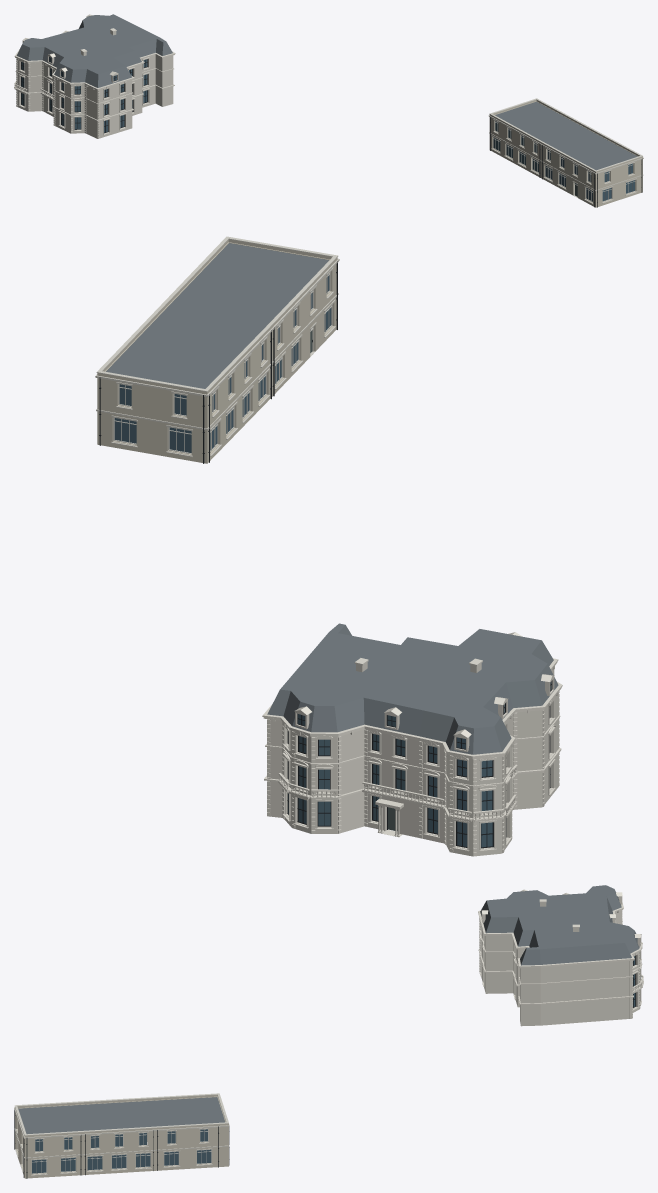
Rendered from retained_batch02.glb.
3 renders of one model, top to bottom at view 1: azimuth 30°, elevation 25°; view 2: azimuth 150°, elevation 25°; view 3: azimuth 270°, elevation 25°, orthographic. The views are drawn at different scales.
Visible parts, largest first — view 1: 25 Kensington Gore | pierced stucco envelope, 41–45 Jay Mews | pierced masonry, 25 Kensington Gore | slate upper roof, 41–45 Jay Mews | concave roof membrane, 25 Kensington Gore | mansard perimeter, 41–45 Jay Mews | recessed glazing, 25 Kensington Gore | dressed architraves, 25 Kensington Gore | continuous mitred cornices, 25 Kensington Gore | recessed glazing, 25 Kensington Gore | corner quoins, 41–45 Jay Mews | mitred coping, 25 Kensington Gore | black sash frames (+4 smaller); view 2: 25 Kensington Gore | pierced stucco envelope, 25 Kensington Gore | slate upper roof, 41–45 Jay Mews | concave roof membrane, 41–45 Jay Mews | pierced masonry, 25 Kensington Gore | mansard perimeter, 25 Kensington Gore | corner quoins, 25 Kensington Gore | dressed architraves, 25 Kensington Gore | recessed glazing, 41–45 Jay Mews | recessed glazing, 25 Kensington Gore | continuous mitred cornices, 41–45 Jay Mews | mitred coping, 25 Kensington Gore | black sash frames (+5 smaller); view 3: 25 Kensington Gore | pierced stucco envelope, 41–45 Jay Mews | pierced masonry, 25 Kensington Gore | slate upper roof, 41–45 Jay Mews | concave roof membrane, 25 Kensington Gore | mansard perimeter, 41–45 Jay Mews | recessed glazing, 25 Kensington Gore | continuous mitred cornices, 41–45 Jay Mews | mitred coping, 41–45 Jay Mews | low parapet, 41–45 Jay Mews | painted joinery, 41–45 Jay Mews | simple eaves, 41–45 Jay Mews | rainwater downpipes (+1 smaller).
Part boxes in pixels (x1,y1,x2,y2): 25 Kensington Gore | pierced stucco envelope: (17, 55, 173, 138); 41–45 Jay Mews | pierced masonry: (489, 101, 642, 207); 25 Kensington Gore | slate upper roof: (22, 14, 165, 74); 41–45 Jay Mews | concave roof membrane: (495, 101, 637, 170); 25 Kensington Gore | mansard perimeter: (16, 20, 172, 87); 41–45 Jay Mews | recessed glazing: (493, 121, 634, 201); 25 Kensington Gore | dressed architraves: (18, 57, 149, 134); 25 Kensington Gore | continuous mitred cornices: (14, 28, 175, 121); 25 Kensington Gore | recessed glazing: (21, 59, 147, 132); 25 Kensington Gore | corner quoins: (16, 58, 99, 138); 41–45 Jay Mews | mitred coping: (489, 98, 642, 171); 25 Kensington Gore | black sash frames: (21, 59, 147, 133); 25 Kensington Gore | pierced stucco envelope: (267, 669, 558, 856); 25 Kensington Gore | slate upper roof: (280, 623, 547, 728); 41–45 Jay Mews | concave roof membrane: (106, 243, 328, 388); 41–45 Jay Mews | pierced masonry: (97, 242, 336, 463); 25 Kensington Gore | mansard perimeter: (267, 625, 558, 754); 25 Kensington Gore | corner quoins: (267, 691, 559, 856); 25 Kensington Gore | dressed architraves: (282, 698, 555, 850); 25 Kensington Gore | recessed glazing: (288, 734, 492, 847); 41–45 Jay Mews | recessed glazing: (114, 274, 331, 452); 25 Kensington Gore | continuous mitred cornices: (262, 658, 562, 820); 41–45 Jay Mews | mitred coping: (96, 236, 338, 391); 25 Kensington Gore | black sash frames: (287, 706, 550, 848); 25 Kensington Gore | pierced stucco envelope: (481, 910, 640, 1026); 41–45 Jay Mews | pierced masonry: (15, 1096, 228, 1178); 25 Kensington Gore | slate upper roof: (486, 885, 634, 949); 41–45 Jay Mews | concave roof membrane: (18, 1097, 224, 1134); 25 Kensington Gore | mansard perimeter: (480, 890, 639, 965); 41–45 Jay Mews | recessed glazing: (32, 1129, 211, 1173); 25 Kensington Gore | continuous mitred cornices: (478, 902, 642, 1004); 41–45 Jay Mews | mitred coping: (14, 1093, 228, 1135); 41–45 Jay Mews | low parapet: (15, 1095, 228, 1137); 41–45 Jay Mews | painted joinery: (17, 1129, 211, 1174); 41–45 Jay Mews | simple eaves: (14, 1107, 229, 1138); 41–45 Jay Mews | rainwater downpipes: (14, 1110, 229, 1178).
Bounding box in the file's own units: 80.1 × 13.23 × 95.13.
